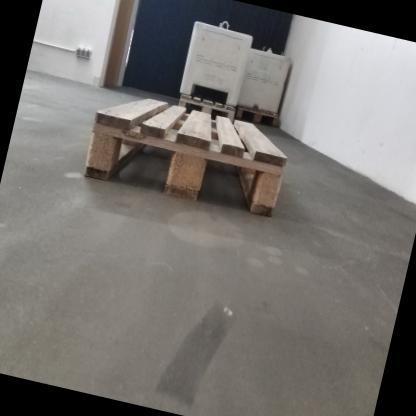BoxFace: (80, 94, 291, 221), (173, 90, 237, 124), (235, 105, 281, 136)
